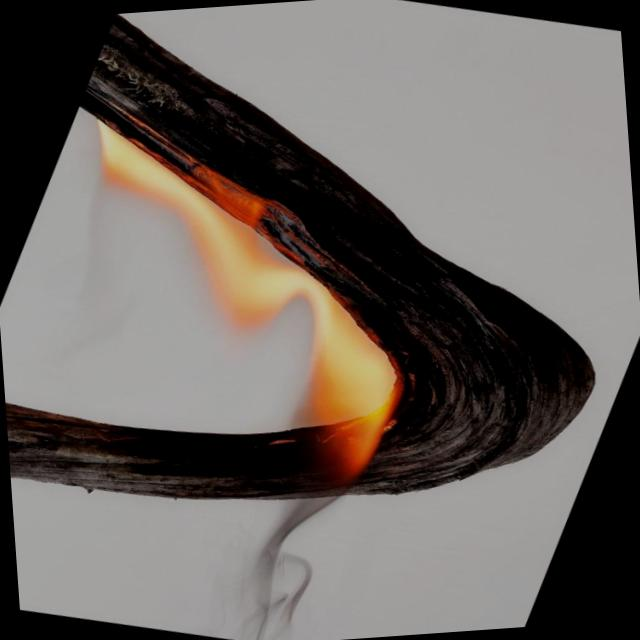fire: (0, 178, 483, 561)
